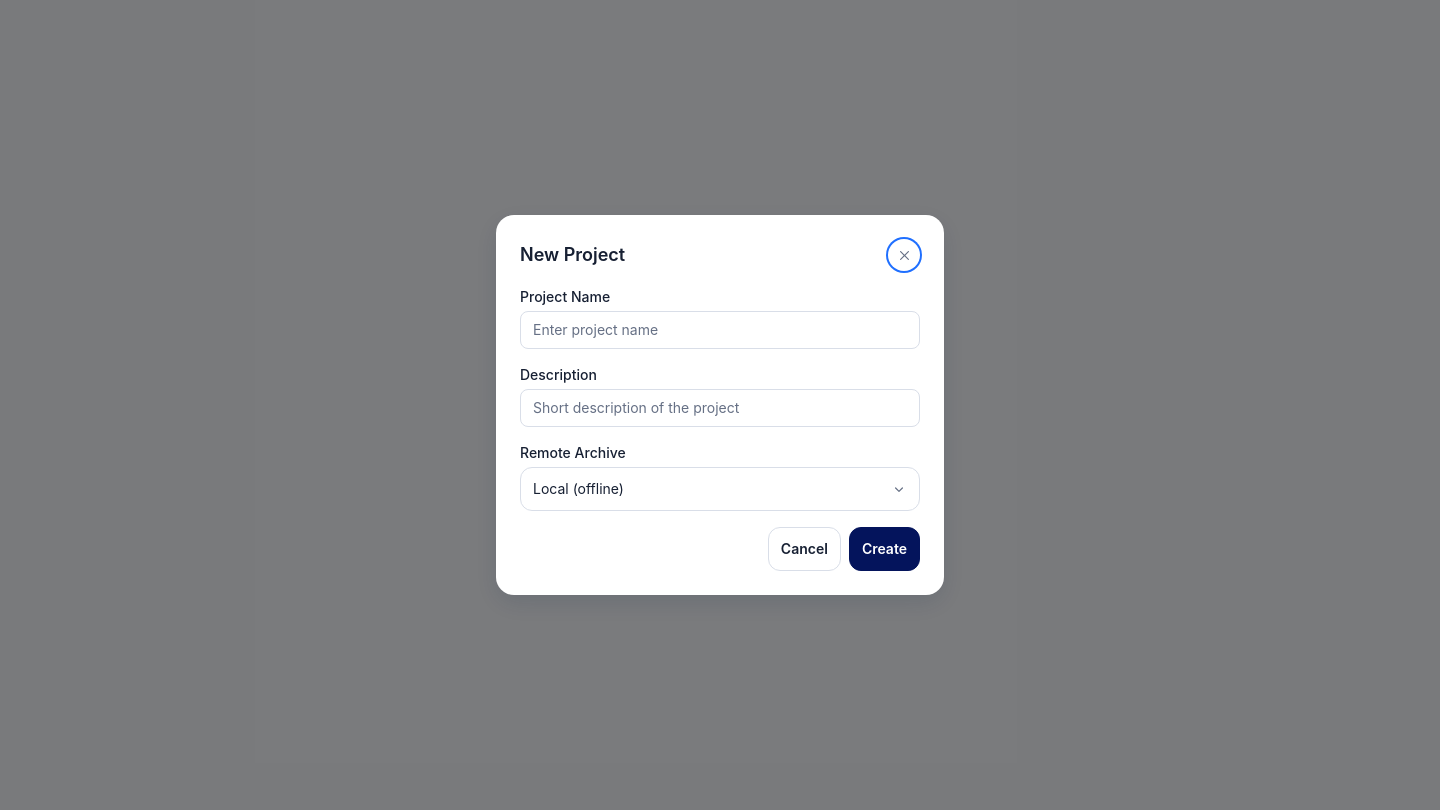
Test: CreateProjectDialog › shows error message when createProject fails with Error
The width and height of the screenshot is (1440, 810).
Click the button "Create".
click(884, 549)  # box left=849, top=527, right=920, bottom=571
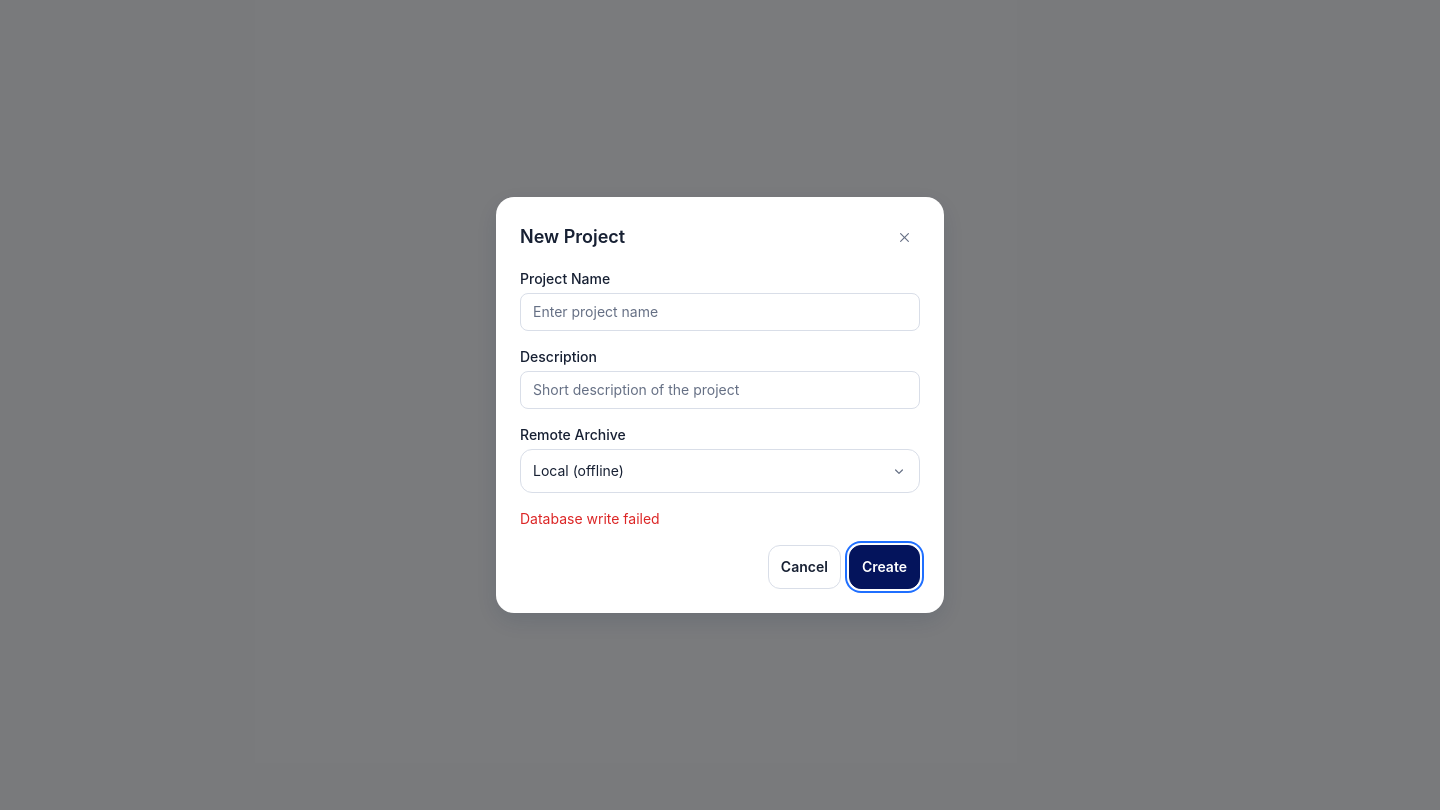
expect the text "Database write failed" is shown: met, box left=520, top=510, right=660, bottom=527
